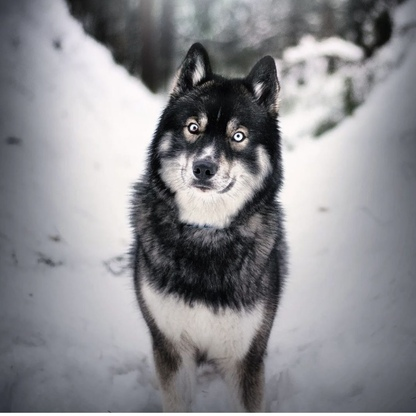husky: (119, 35, 292, 416)
